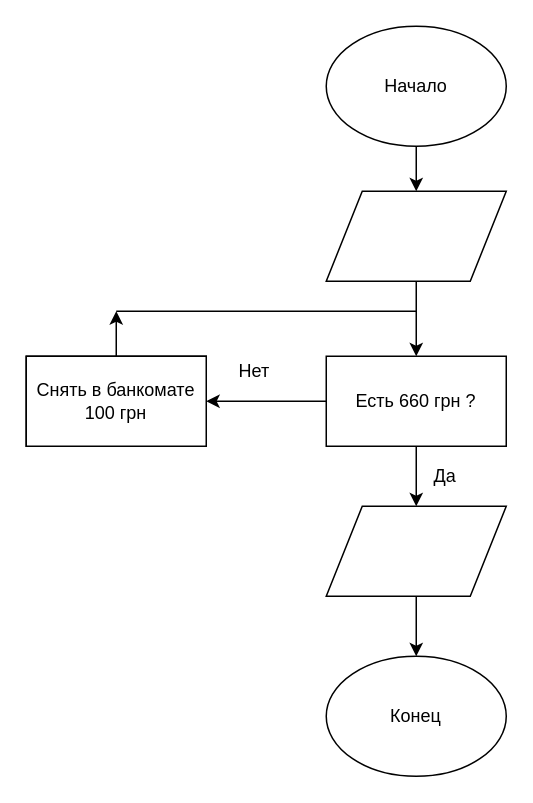
Image size: 533x803. Some labels were removed from this diagram. Here are the shapes that lost their labels. From the top down, the box of each, then its label:
(325, 190, 506, 281): Купить билеты
(325, 505, 506, 596): Идём в кино
